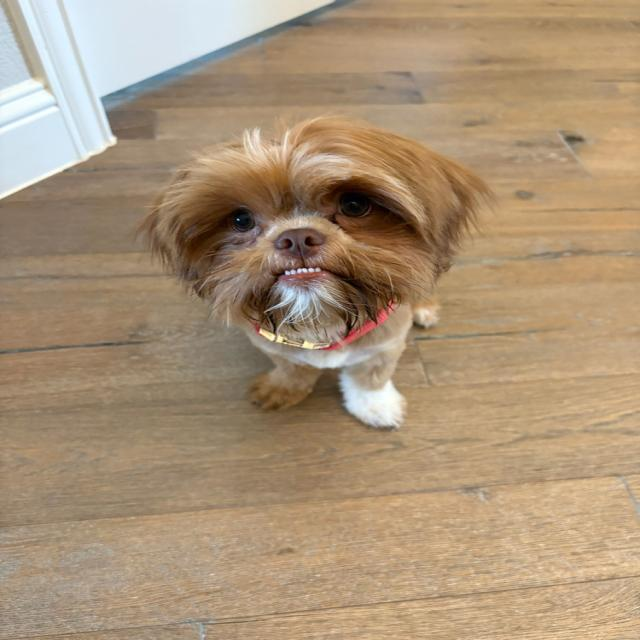shih_tzu_dog: (132, 109, 494, 354)
